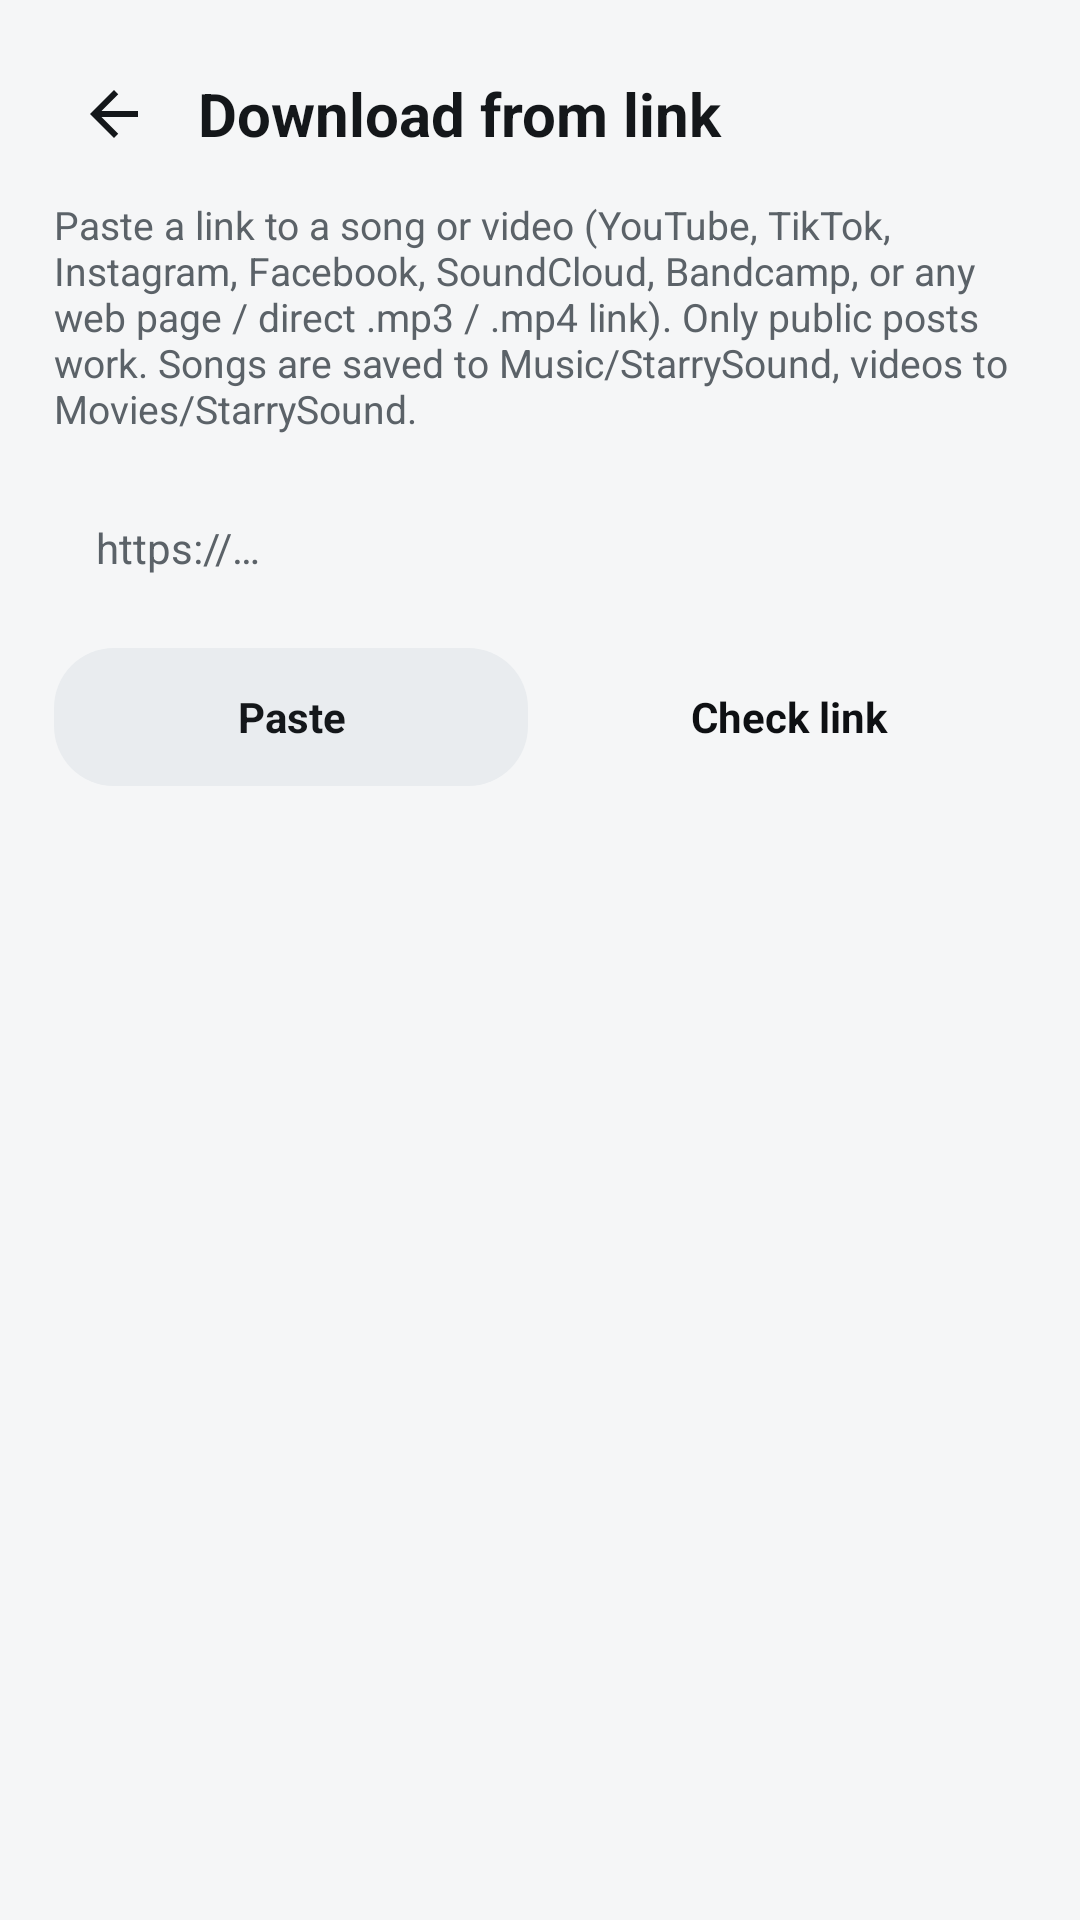

Icon bounding boxes for this 1080x1920 phone screenshot, format (x1, y1, x2, y2):
Back: (90, 90, 138, 138)
